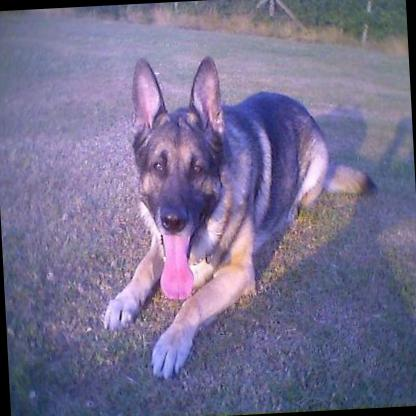German_shepherd: (89, 44, 384, 382)
